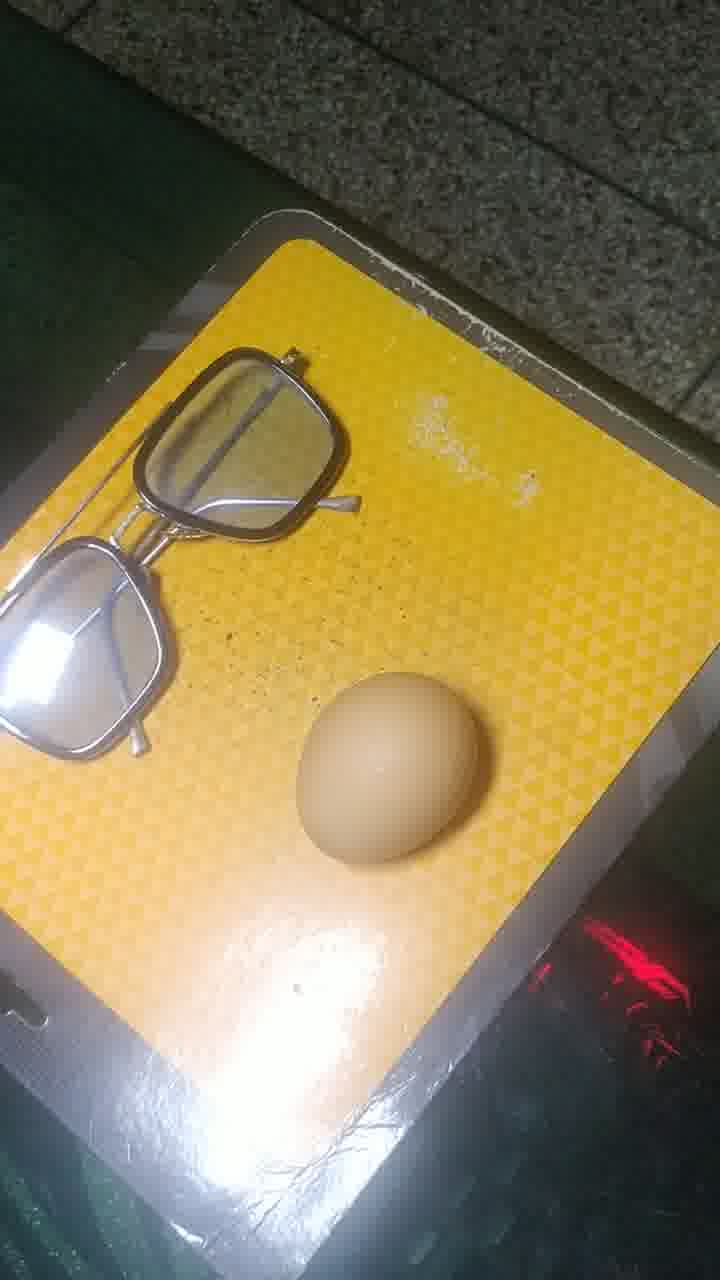egg: (300, 661, 488, 878)
sunglass: (6, 333, 354, 756)
